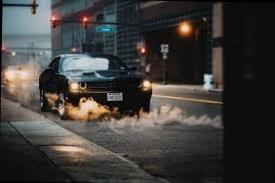Smoke: (69, 99, 222, 133)
